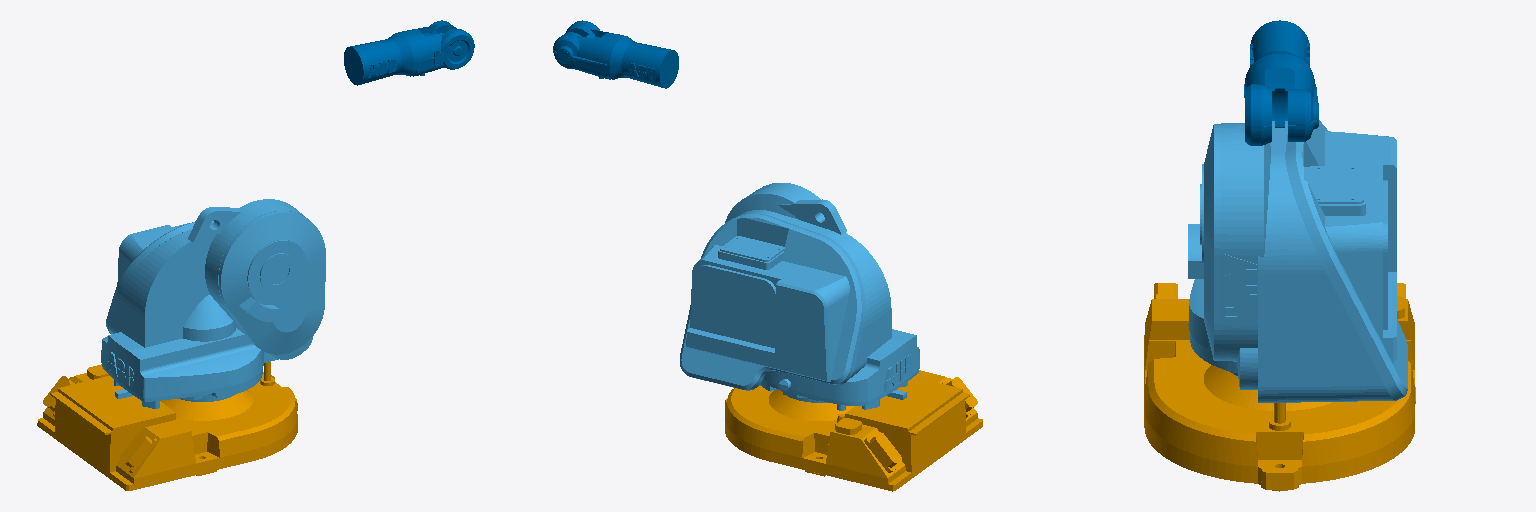
robot.urdf — IRB52_7_1_2_Short:
<?xml version="1.0" ?>
<robot name="IRB52_7_1_2_Short">

<link name="base_link">
  <inertial>
    <origin xyz="-0.1003642789864372 0.0005070514200372364 0.06157262705526034" rpy="0 0 0"/>
    <mass value="226.44137740993105"/>
    <inertia ixx="3.83046" iyy="6.601434" izz="9.832628" ixy="0.01063" iyz="-0.008453" ixz="0.316423"/>
  </inertial>
  <visual>
    <origin xyz="0 0 0" rpy="0 0 0"/>
    <geometry>
      <mesh filename="meshes/base_link.stl" scale="0.001 0.001 0.001"/>
    </geometry>
  </visual>
  <collision>
    <origin xyz="0 0 0" rpy="0 0 0"/>
    <geometry>
      <mesh filename="meshes/base_link.stl" scale="0.001 0.001 0.001"/>
    </geometry>
  </collision>
</link>

<link name="link_1">
  <inertial>
    <origin xyz="0.06548330296919894 0.031913732283330054 0.2349206888618654" rpy="0 0 0"/>
    <mass value="477.4224879733597"/>
    <inertia ixx="10.787614" iyy="16.559219" izz="13.533902" ixy="0.407137" iyz="0.480398" ixz="-1.612466"/>
  </inertial>
  <visual>
    <origin xyz="0.0 -0.0 -0.1245" rpy="0 0 0"/>
    <geometry>
      <mesh filename="meshes/link_1.stl" scale="0.001 0.001 0.001"/>
    </geometry>
  </visual>
  <collision>
    <origin xyz="0.0 -0.0 -0.1245" rpy="0 0 0"/>
    <geometry>
      <mesh filename="meshes/link_1.stl" scale="0.001 0.001 0.001"/>
    </geometry>
  </collision>
</link>

<link name="link_2">
  <inertial>
    <origin xyz="-0.00015451427242296756 -0.04479212901171742 0.2019310492620799" rpy="0 0 0"/>
    <mass value="62.10839179243666"/>
    <inertia ixx="2.091669" iyy="2.134942" izz="0.160797" ixy="0.000255" iyz="-0.147584" ixz="-0.006539"/>
  </inertial>
  <visual>
    <origin xyz="-0.15 0.138 -0.4865" rpy="0 0 0"/>
    <geometry>
      <mesh filename="meshes/link_2.stl" scale="0.001 0.001 0.001"/>
    </geometry>
  </visual>
  <collision>
    <origin xyz="-0.15 0.138 -0.4865" rpy="0 0 0"/>
    <geometry>
      <mesh filename="meshes/link_2.stl" scale="0.001 0.001 0.001"/>
    </geometry>
  </collision>
</link>

<link name="link_3">
  <inertial>
    <origin xyz="0.016914128190772176 0.1358229083196425 -0.013696029007024602" rpy="0 0 0"/>
    <mass value="137.98509508779952"/>
    <inertia ixx="1.05566" iyy="2.173418" izz="2.264468" ixy="0.107306" iyz="0.077811" ixz="-0.015508"/>
  </inertial>
  <visual>
    <origin xyz="-0.15 0.11 -0.9615" rpy="0 0 0"/>
    <geometry>
      <mesh filename="meshes/link_3.stl" scale="0.001 0.001 0.001"/>
    </geometry>
  </visual>
  <collision>
    <origin xyz="-0.15 0.11 -0.9615" rpy="0 0 0"/>
    <geometry>
      <mesh filename="meshes/link_3.stl" scale="0.001 0.001 0.001"/>
    </geometry>
  </collision>
</link>

<link name="link_4">
  <inertial>
    <origin xyz="0.16574308075572902 -0.0009230813206154442 -0.0004499364710910392" rpy="0 0 0"/>
    <mass value="23.22858508249877"/>
    <inertia ixx="0.039958" iyy="0.214074" izz="0.222867" ixy="0.002898" iyz="5.2e-05" ixz="0.000407"/>
  </inertial>
  <visual>
    <origin xyz="-0.464 0.0 -0.9615" rpy="0 0 0"/>
    <geometry>
      <mesh filename="meshes/link_4.stl" scale="0.001 0.001 0.001"/>
    </geometry>
  </visual>
  <collision>
    <origin xyz="-0.464 0.0 -0.9615" rpy="0 0 0"/>
    <geometry>
      <mesh filename="meshes/link_4.stl" scale="0.001 0.001 0.001"/>
    </geometry>
  </collision>
</link>

<link name="link_5">
  <inertial>
    <origin xyz="-4.440892098500626e-16 -0.01365000000000034 -1.1102230246251565e-15" rpy="0 0 0"/>
    <mass value="1.0387285866977913"/>
    <inertia ixx="0.000592" iyy="0.000958" izz="0.000508" ixy="0.0" iyz="0.0" ixz="-0.0"/>
  </inertial>
  <visual>
    <origin xyz="-0.75 -0.01365 -0.9615" rpy="0 0 0"/>
    <geometry>
      <mesh filename="meshes/link_5.stl" scale="0.001 0.001 0.001"/>
    </geometry>
  </visual>
  <collision>
    <origin xyz="-0.75 -0.01365 -0.9615" rpy="0 0 0"/>
    <geometry>
      <mesh filename="meshes/link_5.stl" scale="0.001 0.001 0.001"/>
    </geometry>
  </collision>
</link>

<link name="link_6">
  <inertial>
    <origin xyz="0.0036397384431808844 -9.698639895149904e-08 -0.00019732680522110968" rpy="0 0 0"/>
    <mass value="0.2292693926024354"/>
    <inertia ixx="4.7e-05" iyy="0.000105" izz="0.000106" ixy="0.0" iyz="0.0" ixz="1e-06"/>
  </inertial>
  <visual>
    <origin xyz="-0.792004 0.0 -0.9615" rpy="0 0 0"/>
    <geometry>
      <mesh filename="meshes/link_6.stl" scale="0.001 0.001 0.001"/>
    </geometry>
  </visual>
  <collision>
    <origin xyz="-0.792004 0.0 -0.9615" rpy="0 0 0"/>
    <geometry>
      <mesh filename="meshes/link_6.stl" scale="0.001 0.001 0.001"/>
    </geometry>
  </collision>
</link>

<joint name="joint_1" type="revolute">
  <origin xyz="0.0 0.0 0.1245" rpy="0 0 0"/>
  <parent link="base_link"/>
  <child link="link_1"/>
  <axis xyz="0.0 0.0 1.0"/>
  <limit lower="-3.14159" upper="3.14159" effort="300" velocity="3.142"/>
</joint>

<joint name="joint_2" type="revolute">
  <origin xyz="0.15 -0.138 0.362" rpy="0 0 0"/>
  <parent link="link_1"/>
  <child link="link_2"/>
  <axis xyz="-0.0 -1.0 0.0"/>
  <limit lower="-1.099" upper="1.919" effort="300" velocity="3.142"/>
</joint>

<joint name="joint_3" type="revolute">
  <origin xyz="0.0 0.028 0.475" rpy="0 0 0"/>
  <parent link="link_2"/>
  <child link="link_3"/>
  <axis xyz="0.0 -1.0 0.0"/>
  <limit lower="-4.101" upper="0.96" effort="300" velocity="3.142"/>
</joint>

<joint name="joint_4" type="revolute">
  <origin xyz="0.314 0.11 0.0" rpy="0 0 0"/>
  <parent link="link_3"/>
  <child link="link_4"/>
  <axis xyz="1.0 0.0 0.0"/>
  <limit lower="-3.491" upper="3.491" effort="100" velocity="5.585"/>
</joint>

<joint name="joint_5" type="revolute">
  <origin xyz="0.286 0.01365 0.0" rpy="0 0 0"/>
  <parent link="link_4"/>
  <child link="link_5"/>
  <axis xyz="0.0 1.0 0.0"/>
  <limit lower="-2.007" upper="2.007" effort="100" velocity="6.981"/>
</joint>

<joint name="joint_6" type="revolute">
  <origin xyz="0.042004 -0.01365 0.0" rpy="0 0 0"/>
  <parent link="link_5"/>
  <child link="link_6"/>
  <axis xyz="1.0 0.0 0.0"/>
  <limit lower="-6.981" upper="6.981" effort="100" velocity="8.028"/>
</joint>

<link name="flange">
  <inertial>
    <origin xyz="0 0 0" rpy="0 0 0"/>
    <mass value="0.1"/>
    <inertia ixx="0.0001" iyy="0.0001" izz="0.0001" ixy="0" iyz="0" ixz="0"/>
  </inertial>
</link>

<link name="tool0">
  <inertial>
    <origin xyz="0 0 0" rpy="0 0 0"/>
    <mass value="0.01"/>
    <inertia ixx="0.00001" iyy="0.00001" izz="0.00001" ixy="0" iyz="0" ixz="0"/>
  </inertial>
</link>

<joint name="joint_flange" type="fixed">
  <origin xyz="0 0 0" rpy="0 0 0"/>
  <parent link="link_6"/>
  <child link="flange"/>
</joint>

<joint name="joint_tool0" type="fixed">
  <origin xyz="0 0 0" rpy="0 0 0"/>
  <parent link="flange"/>
  <child link="tool0"/>
</joint>

</robot>

--- Render facts (derived) ---
Views: 3 orthographic renders of the robot side by side, from view 1: azimuth 30°, elevation 25°; view 2: azimuth 150°, elevation 25°; view 3: azimuth 270°, elevation 25°.
Model IRB52_7_1_2_Short with 9 links and 8 joints (6 revolute, 2 fixed), rooted at base_link, posed all joints at 0.
Links seen in each view (by area): view 1: link_1, base_link, link_4; view 2: link_1, base_link, link_4; view 3: link_1, base_link, link_4.
Boxes of the visible links, <box> form: link_1: <box>101,199,325,408</box>; base_link: <box>37,362,297,490</box>; link_4: <box>344,20,474,85</box>; link_1: <box>680,183,919,410</box>; base_link: <box>725,370,982,491</box>; link_4: <box>553,20,678,88</box>; link_1: <box>1188,120,1407,402</box>; base_link: <box>1144,283,1415,491</box>; link_4: <box>1244,20,1318,145</box>.
Bounding box of the posed robot: 1.19 × 0.4833 × 1.02 m (x, y, z).
Meshes: 7 distinct files referenced, 3 mesh visuals loaded (3 binary STL); not drawn: 4 (reference not matched to a file when rendering).